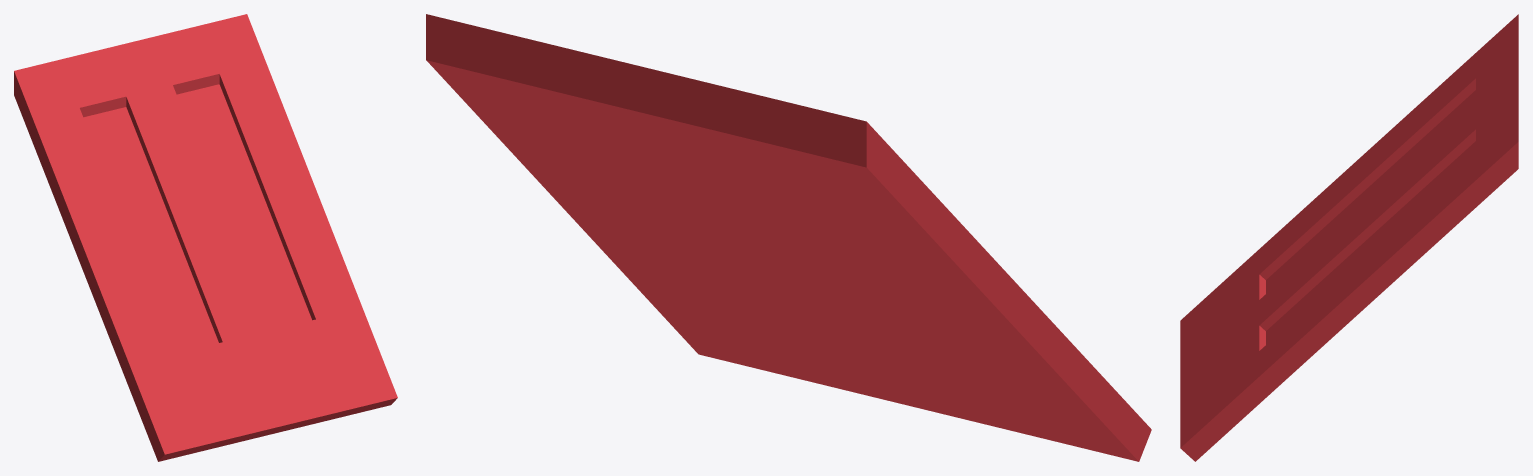
Rendered from roof_skylight_3.glb.
3 views of the same model, side by side, from view 1: azimuth 30°, elevation 25°; view 2: azimuth 150°, elevation 25°; view 3: azimuth 270°, elevation 25° (orthographic). The views are drawn at different scales.
Parts seen in each view (by area): view 1: roof_skylight_3; view 2: roof_skylight_3; view 3: roof_skylight_3.
Boxes of the visible parts, x1,y1,x2,y2 form: roof_skylight_3: [14, 14, 397, 461]; roof_skylight_3: [426, 14, 1151, 461]; roof_skylight_3: [1180, 14, 1518, 461].
Bounding box in the file's own units: 1 × 1.17 × 1.12.
